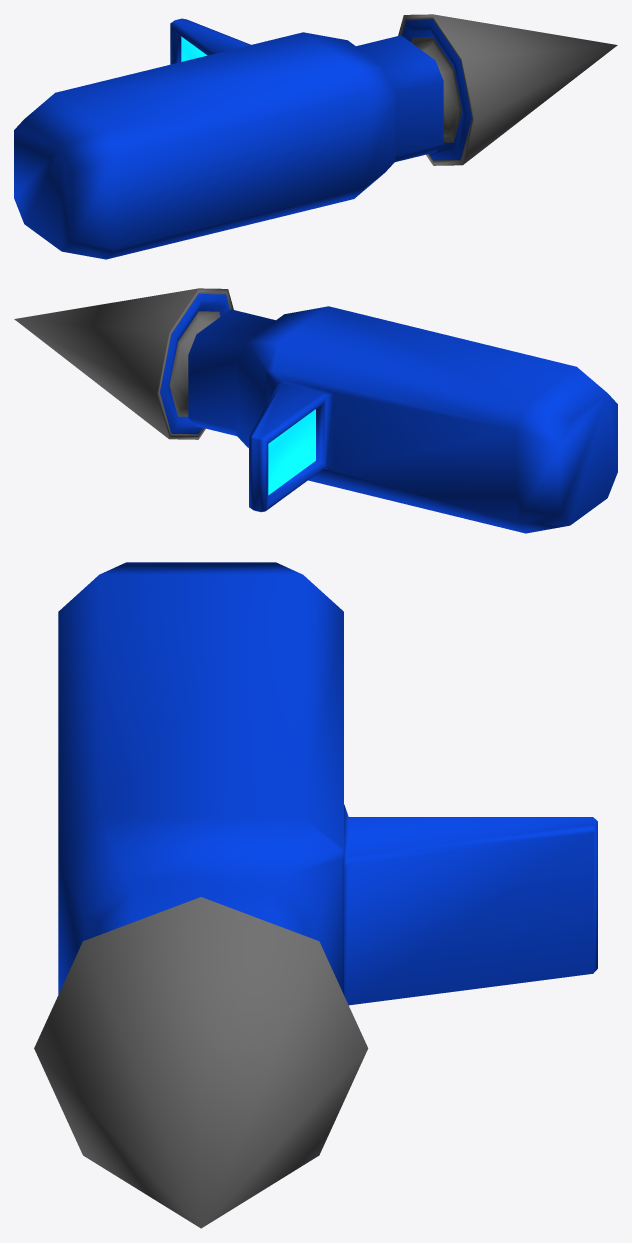
Rendered from drillTier1.fbx.
The picture shows the model from 3 angles, top to bottom: view 1: azimuth 30°, elevation 25°; view 2: azimuth 150°, elevation 25°; view 3: azimuth 270°, elevation 25°; orthographic projection. The views are drawn at different scales.
Parts seen in each view (by area): view 1: drillT1Body, drillT1; view 2: drillT1Body, drillT1; view 3: drillT1Body, drillT1.
Boxes of the visible parts, x1=… form: drillT1Body: x1=14, y1=18, x2=443, y2=259; drillT1: x1=398, y1=14, x2=617, y2=165; drillT1Body: x1=188, y1=306, x2=617, y2=533; drillT1: x1=14, y1=288, x2=233, y2=439; drillT1Body: x1=58, y1=562, x2=597, y2=1005; drillT1: x1=34, y1=897, x2=368, y2=1228.
Size of the model in its own units: 114 by 28.82 by 48.62.
